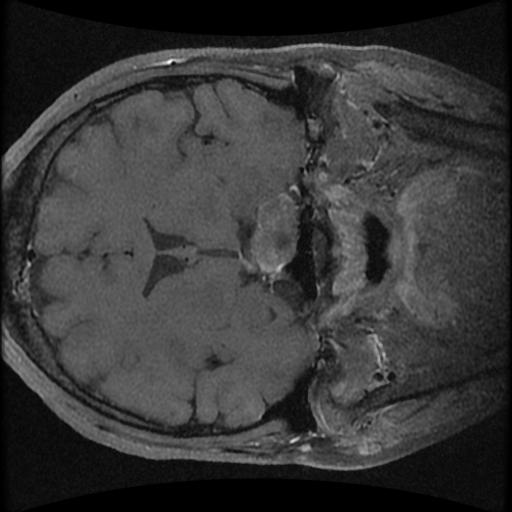pituitary tumour: (251, 194, 299, 276)
